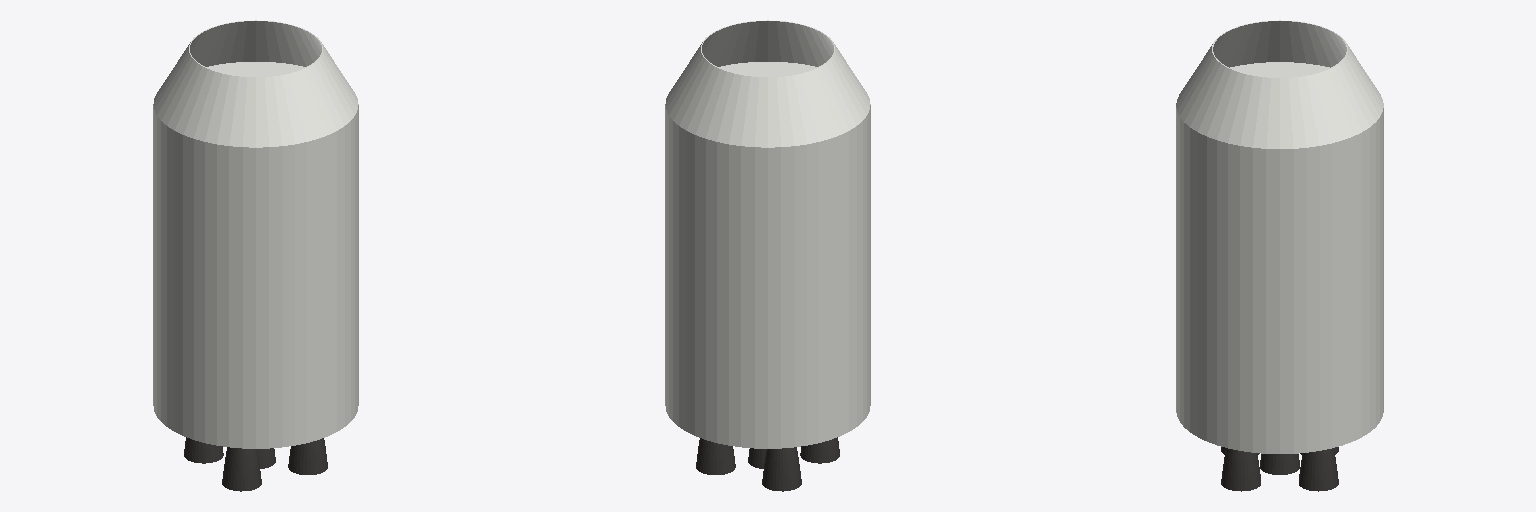
URDF robot description (s_ii):
<?xml version="1.0"?>
<!-- S-II second stage, five J-2 engines, and the S-II/S-IVB interstage, at scale -->
<robot name="s_ii">
  <link name="base">
    <visual>
      <origin xyz="0 0 0" rpy="0 0 0"/>
      <geometry><mesh filename="meshes/s_ii_white.stl"/></geometry>
      <material name="base_0"><color rgba="0.920 0.920 0.900 1"/></material>
    </visual>
    <visual>
      <origin xyz="0 0 0" rpy="0 0 0"/>
      <geometry><mesh filename="meshes/s_ii_engines.stl"/></geometry>
      <material name="base_1"><color rgba="0.300 0.290 0.280 1"/></material>
    </visual>
    <inertial><mass value="39600"/><origin xyz="0 0 0"/><inertia ixx="1" ixy="0" ixz="0" iyy="1" iyz="0" izz="1"/></inertial>
  </link>
</robot>

--- Facts derived from the render (not from the file) ---
3 views of the same robot in one strip: view 1: azimuth 30°, elevation 25°; view 2: azimuth 150°, elevation 25°; view 3: azimuth 270°, elevation 25° (orthographic).
Robot: s_ii — 1 links, 0 joints (none); root link base; default pose: all joints at 0.
Links seen in each view (by area): view 1: base; view 2: base; view 3: base.
Link boxes in pixels (left/top/right/bottom): base: left=153, top=20, right=358, bottom=491; base: left=665, top=20, right=870, bottom=491; base: left=1176, top=20, right=1383, bottom=491.
Size in the robot's own frame: 10.06 by 10.06 by 22.3 metres.
Meshes: 2 distinct files referenced, 2 mesh visuals loaded (2 binary STL).
